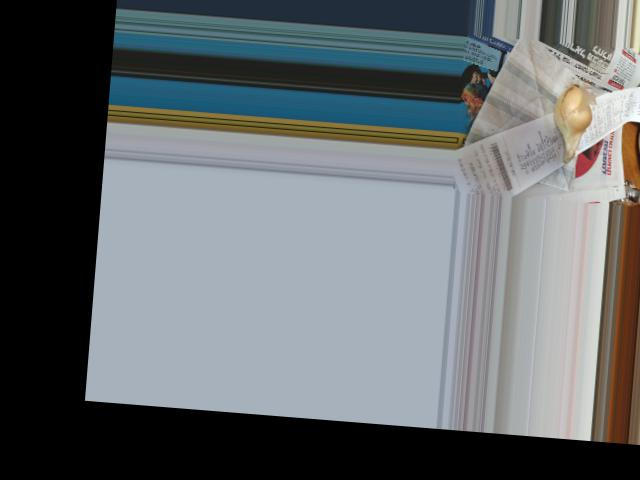onion: (552, 81, 595, 150)
